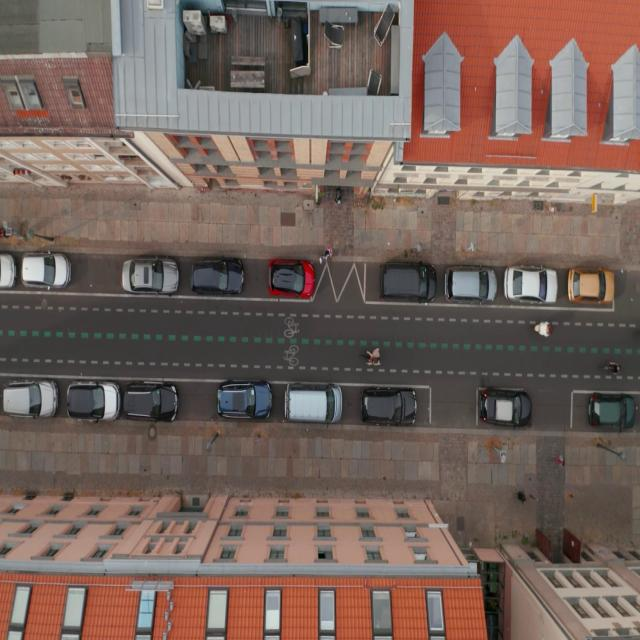Car: (122, 382, 180, 422), (66, 381, 122, 422), (122, 258, 181, 296), (216, 380, 272, 420), (361, 386, 417, 426), (478, 387, 532, 428), (504, 264, 558, 304), (3, 379, 58, 418), (190, 258, 246, 296), (268, 258, 316, 300), (444, 267, 495, 305), (588, 393, 636, 430), (21, 253, 70, 289), (568, 266, 615, 303), (0, 253, 18, 289)
Cycle: (532, 326, 553, 333), (599, 364, 615, 372), (360, 354, 381, 360)
Van: (380, 260, 437, 304), (284, 382, 343, 423)
